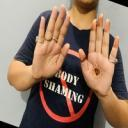hand: (77, 14, 119, 97), (31, 4, 70, 80)
